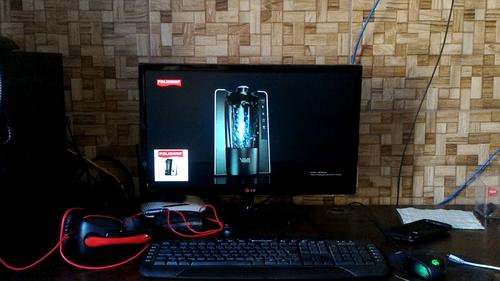Polishop #1: (154, 148, 189, 182)
